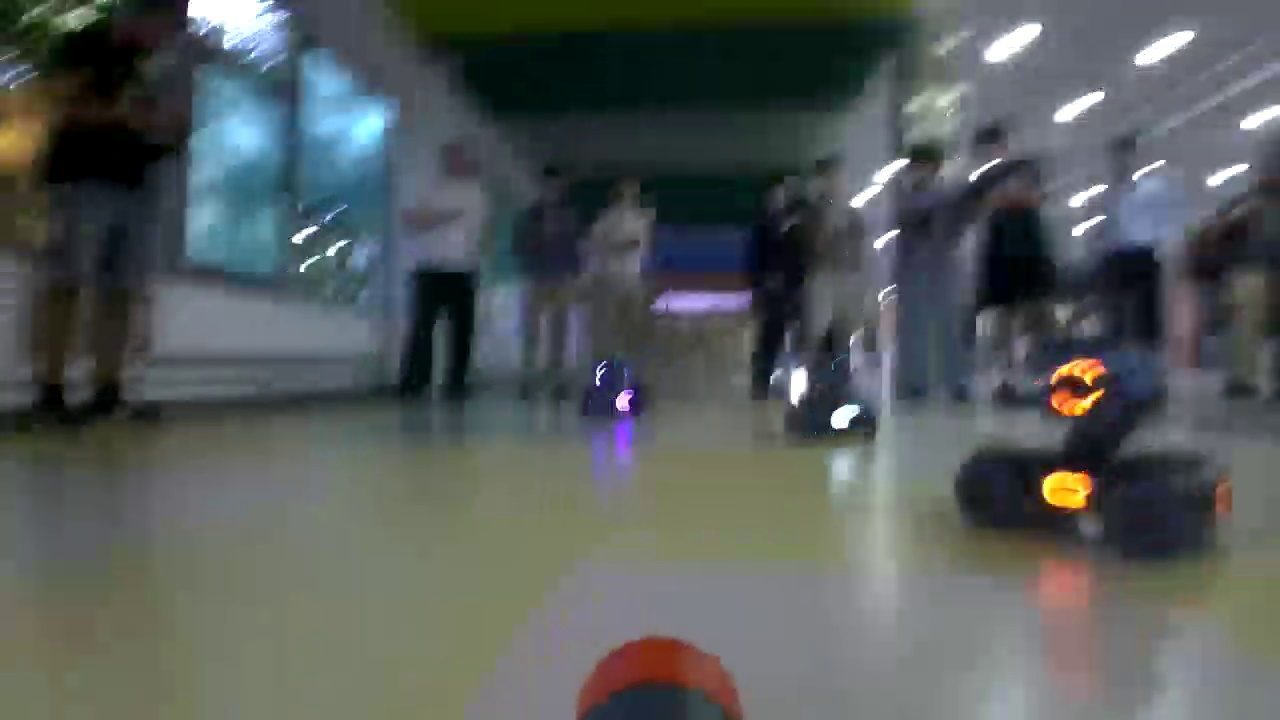robot: (952, 340, 1229, 560), (780, 364, 880, 443), (580, 355, 645, 414)
